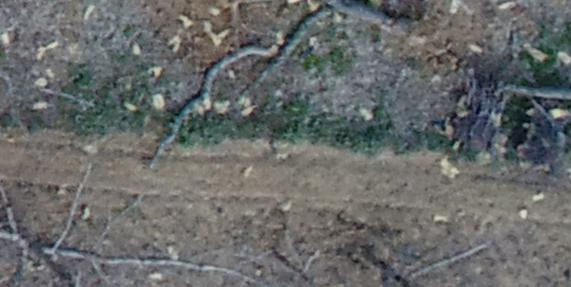apple: (10, 174, 232, 277)
